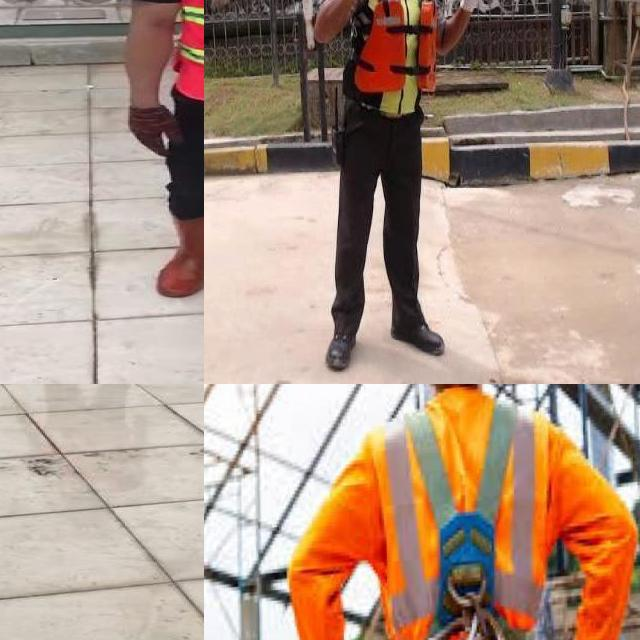Harness: (405, 402, 519, 640)
boots: (156, 213, 204, 298), (387, 312, 448, 363), (324, 322, 361, 375)
hand_glove: (128, 107, 187, 156)
person: (293, 0, 497, 384), (111, 0, 204, 337)
vest: (343, 0, 443, 122)
